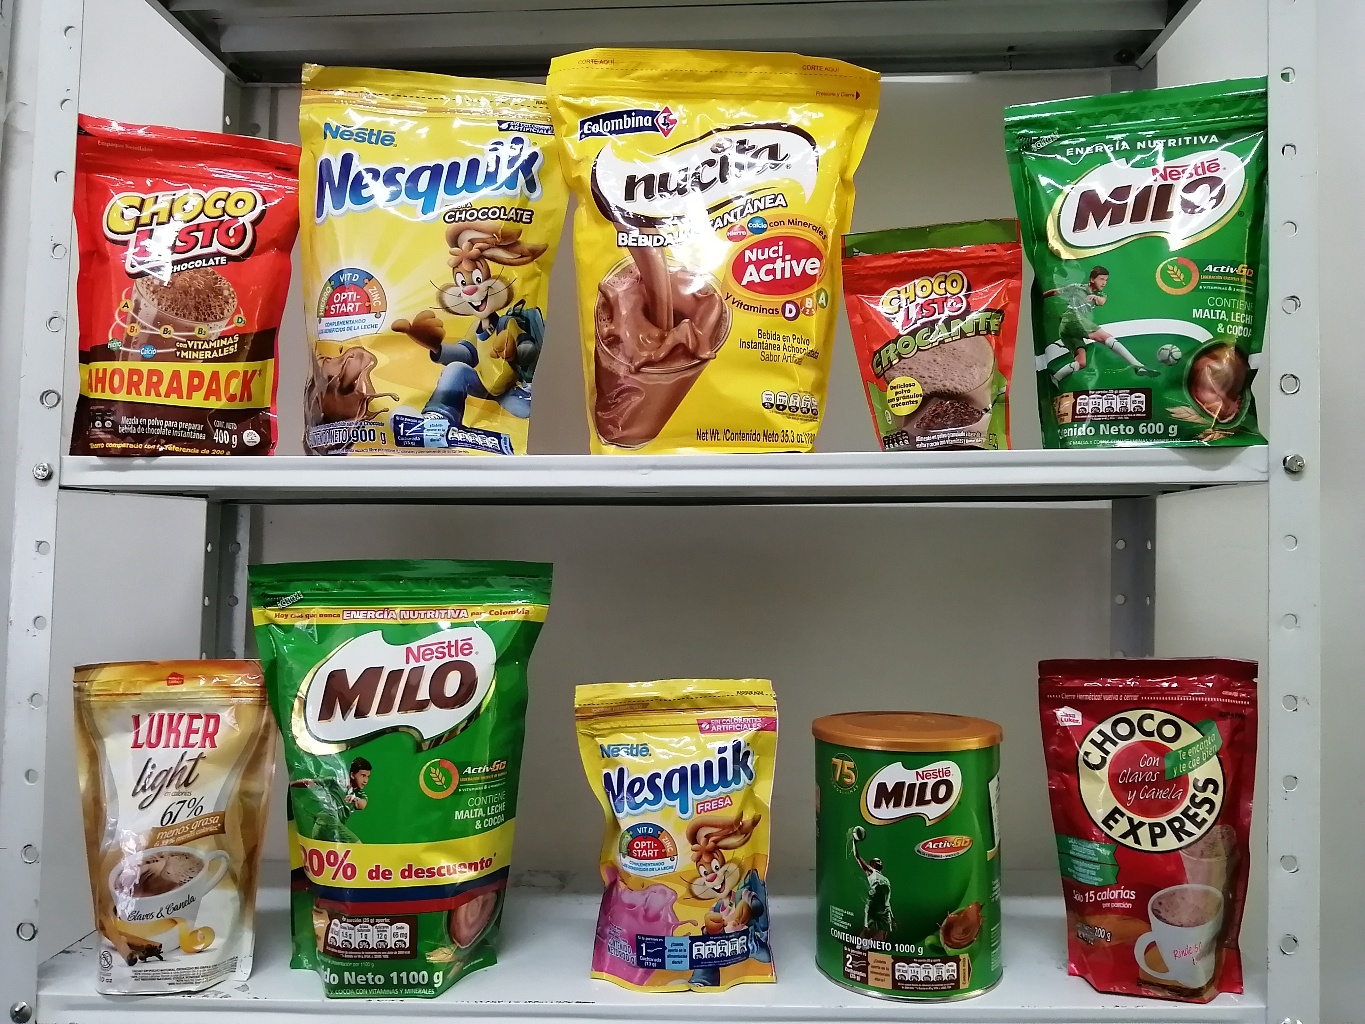COL0170102DYP10000: (844, 205, 1021, 459)
COL0170103DYP40000: (66, 115, 294, 451)
COL0170305DYP20000: (579, 669, 792, 989)
